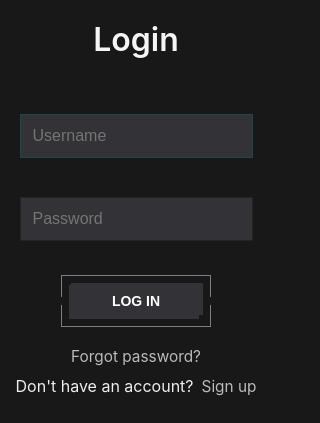
Test: LoginPage › displays error on failed login
Type "wronguser" into the field with placeholder "Username" at (136,136), box [20,114,252,158]
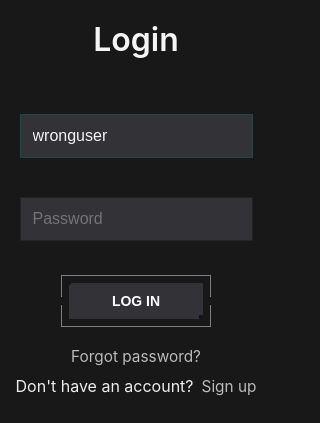
Type "wrongpass" into the password field with placeholder "Password" at (136,219), box [20,197,252,241]
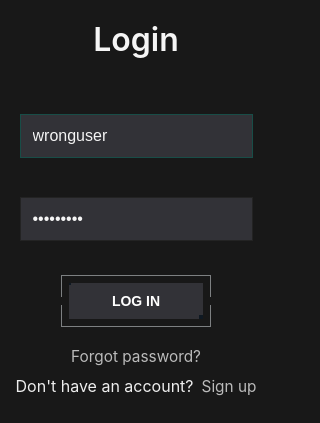
Click the button "Log in" at (136,301), box [61,275,211,327]
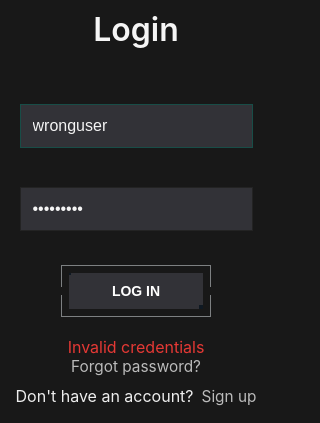
Expected: the text "Invalid credentials" is shown, [68,337,204,357]
